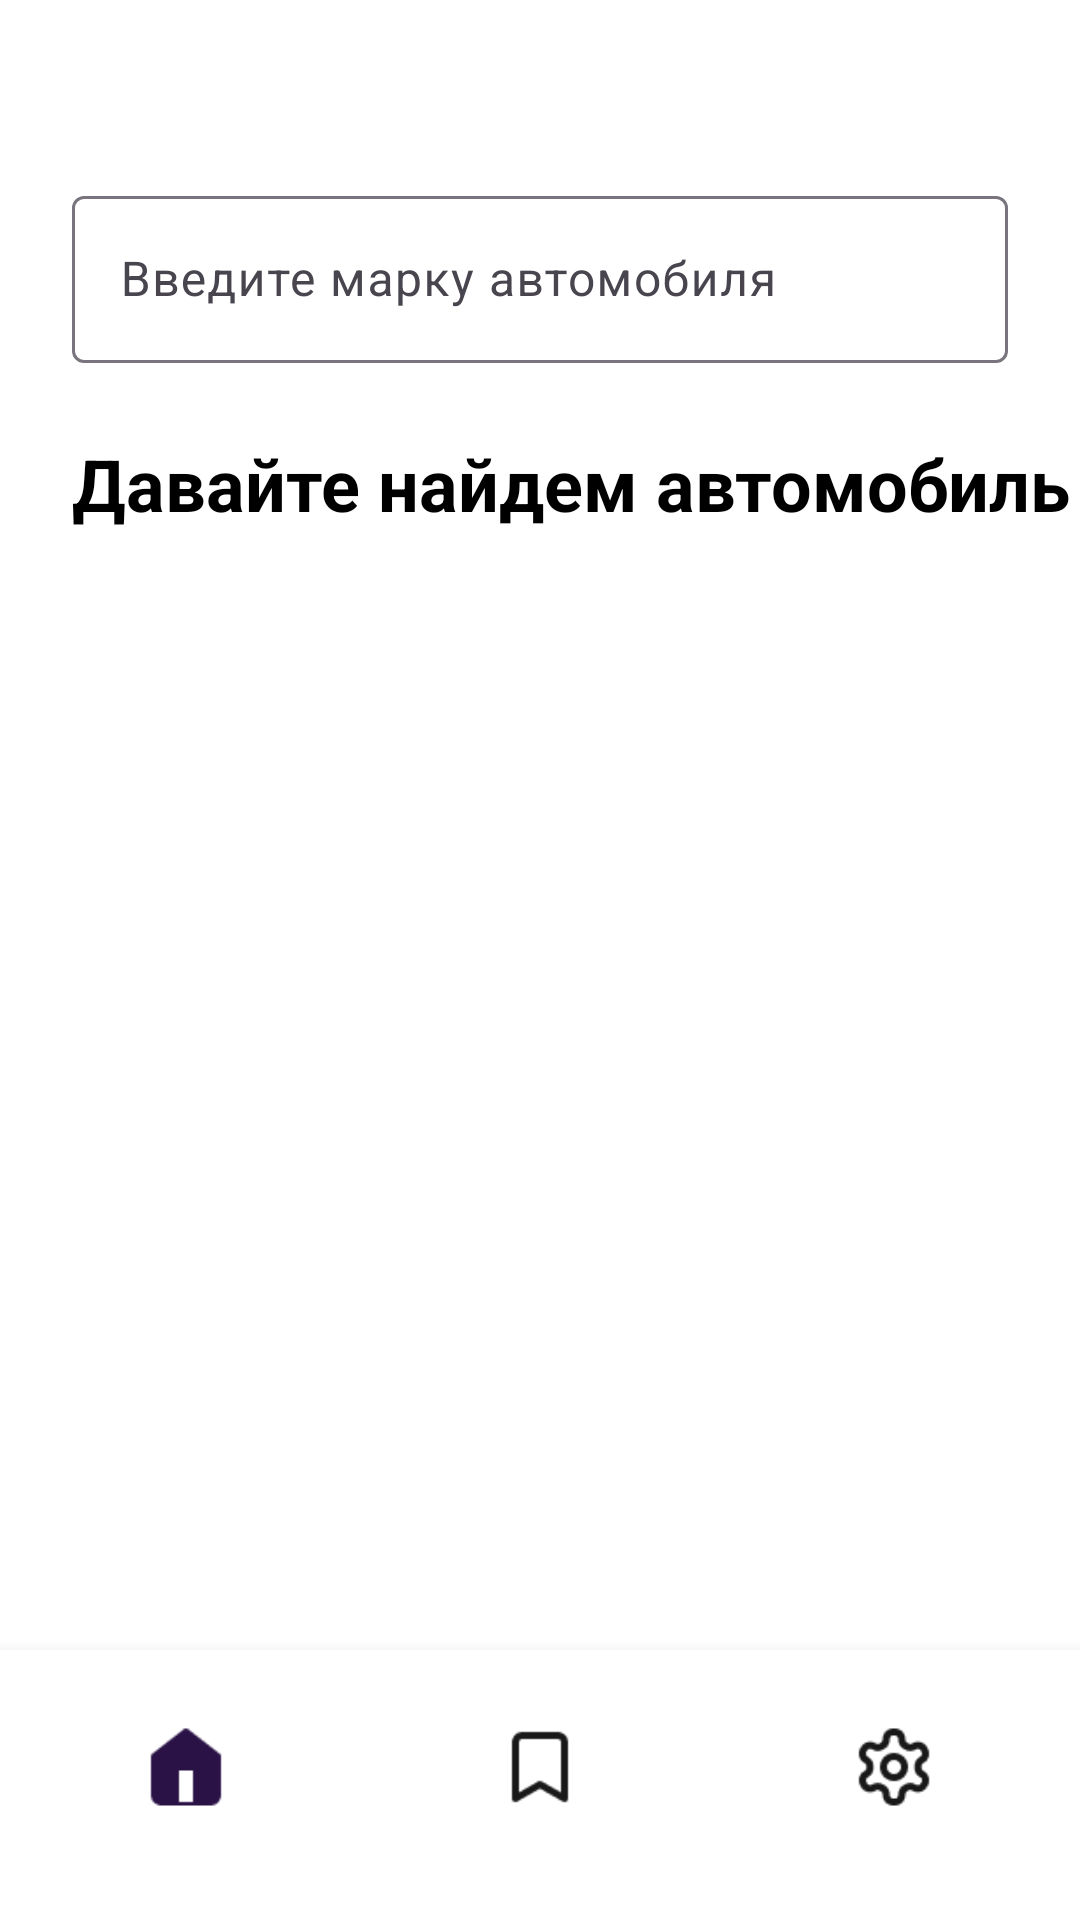

Where icons sit on this 1080x1920 app screen, as [x1, y1, x2, y2]:
Главная: [150, 1728, 222, 1806]
Закладки: [511, 1731, 569, 1803]
Настройки: [858, 1728, 930, 1806]
